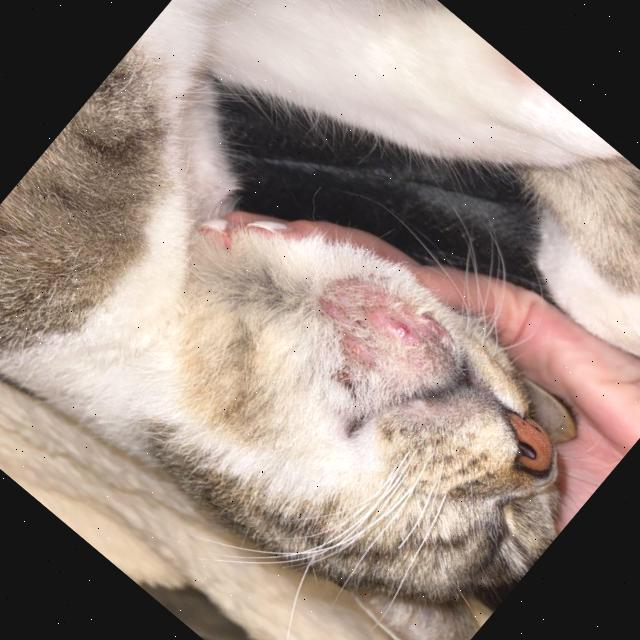cat-acne: (296, 252, 449, 399)
